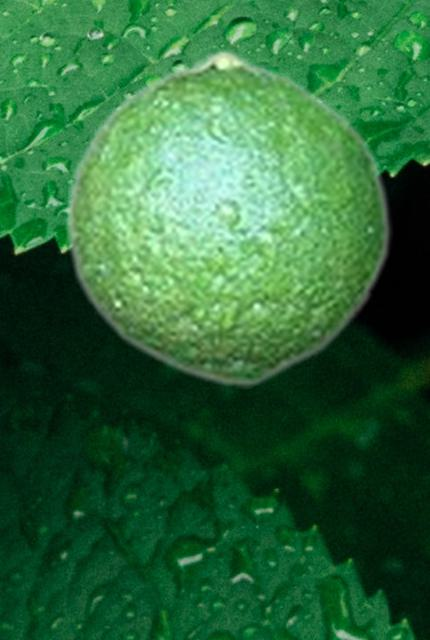dalandan: (62, 48, 391, 387)
